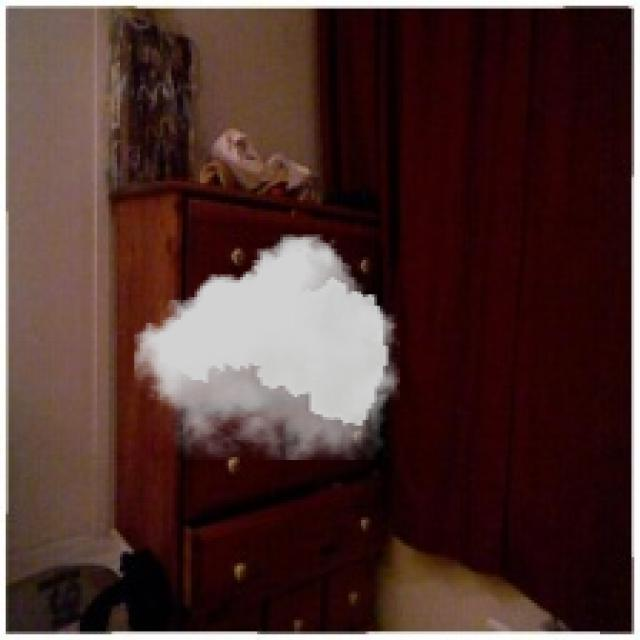smoke: (134, 234, 400, 460)
